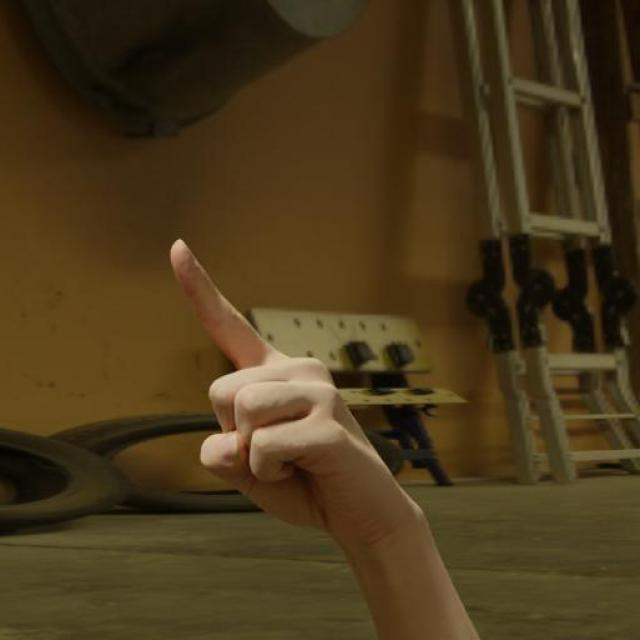Z: (168, 236, 418, 548)
